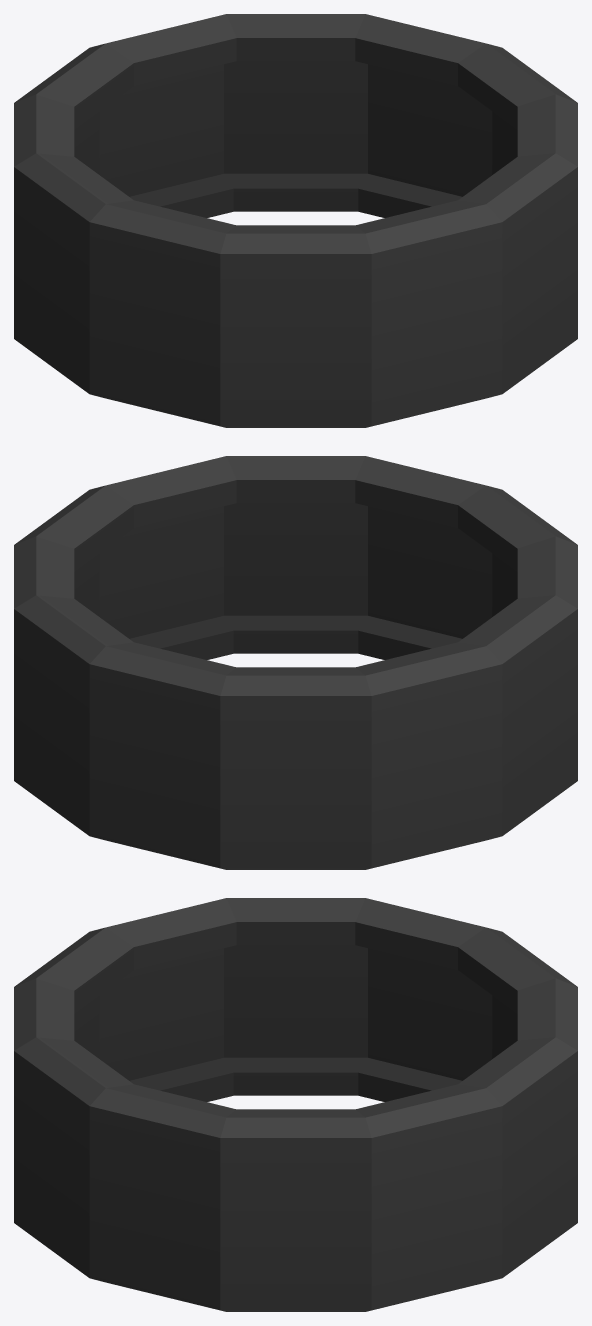
The model's file is Prop_Tire_01.obj.
3 views of the same model, one above another, from view 1: azimuth 30°, elevation 25°; view 2: azimuth 150°, elevation 25°; view 3: azimuth 270°, elevation 25° (orthographic).
Parts seen in each view (by area): view 1: Prop_Tire_01; view 2: Prop_Tire_01; view 3: Prop_Tire_01.
Boxes of the visible parts, left/top/right/bottom form: Prop_Tire_01: left=14, top=14, right=577, bottom=427; Prop_Tire_01: left=14, top=456, right=577, bottom=869; Prop_Tire_01: left=14, top=898, right=577, bottom=1311.
Size of the model in its own units: 0.8017 by 0.3049 by 0.8017.
Materials: 1 (1 with a texture image).
